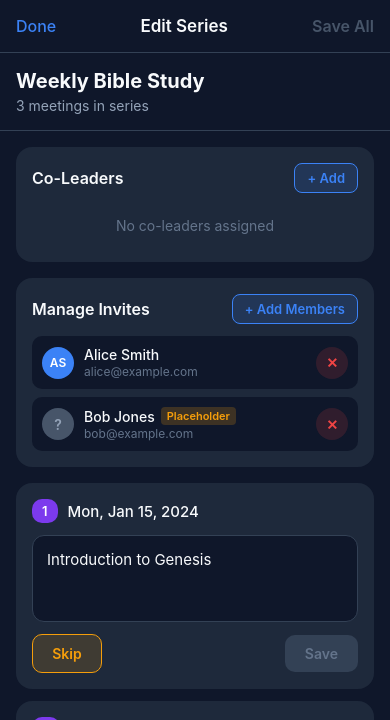
Test: MeetingSeriesEditorModal › should open member picker and show available members when Add Members is pressed
What coordinates should you click on to do the following:
click the text "+ Add Members"
I would click on:
 (295, 309)
Its box is [245,301,345,317].
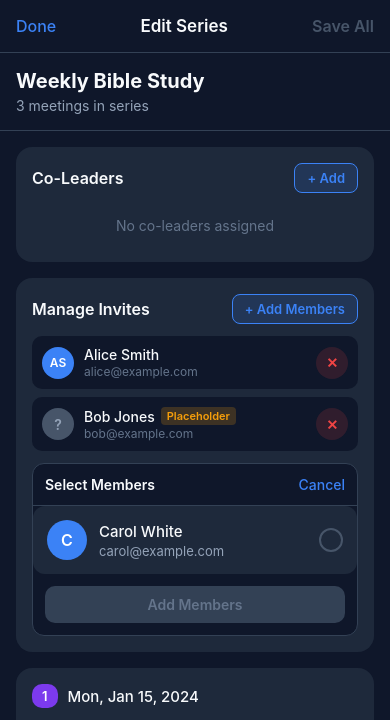
Check: the text "Carol White" is shown, box [99,522,182,540]
Check: the text "Select Members" is shown, box [45,476,155,493]
